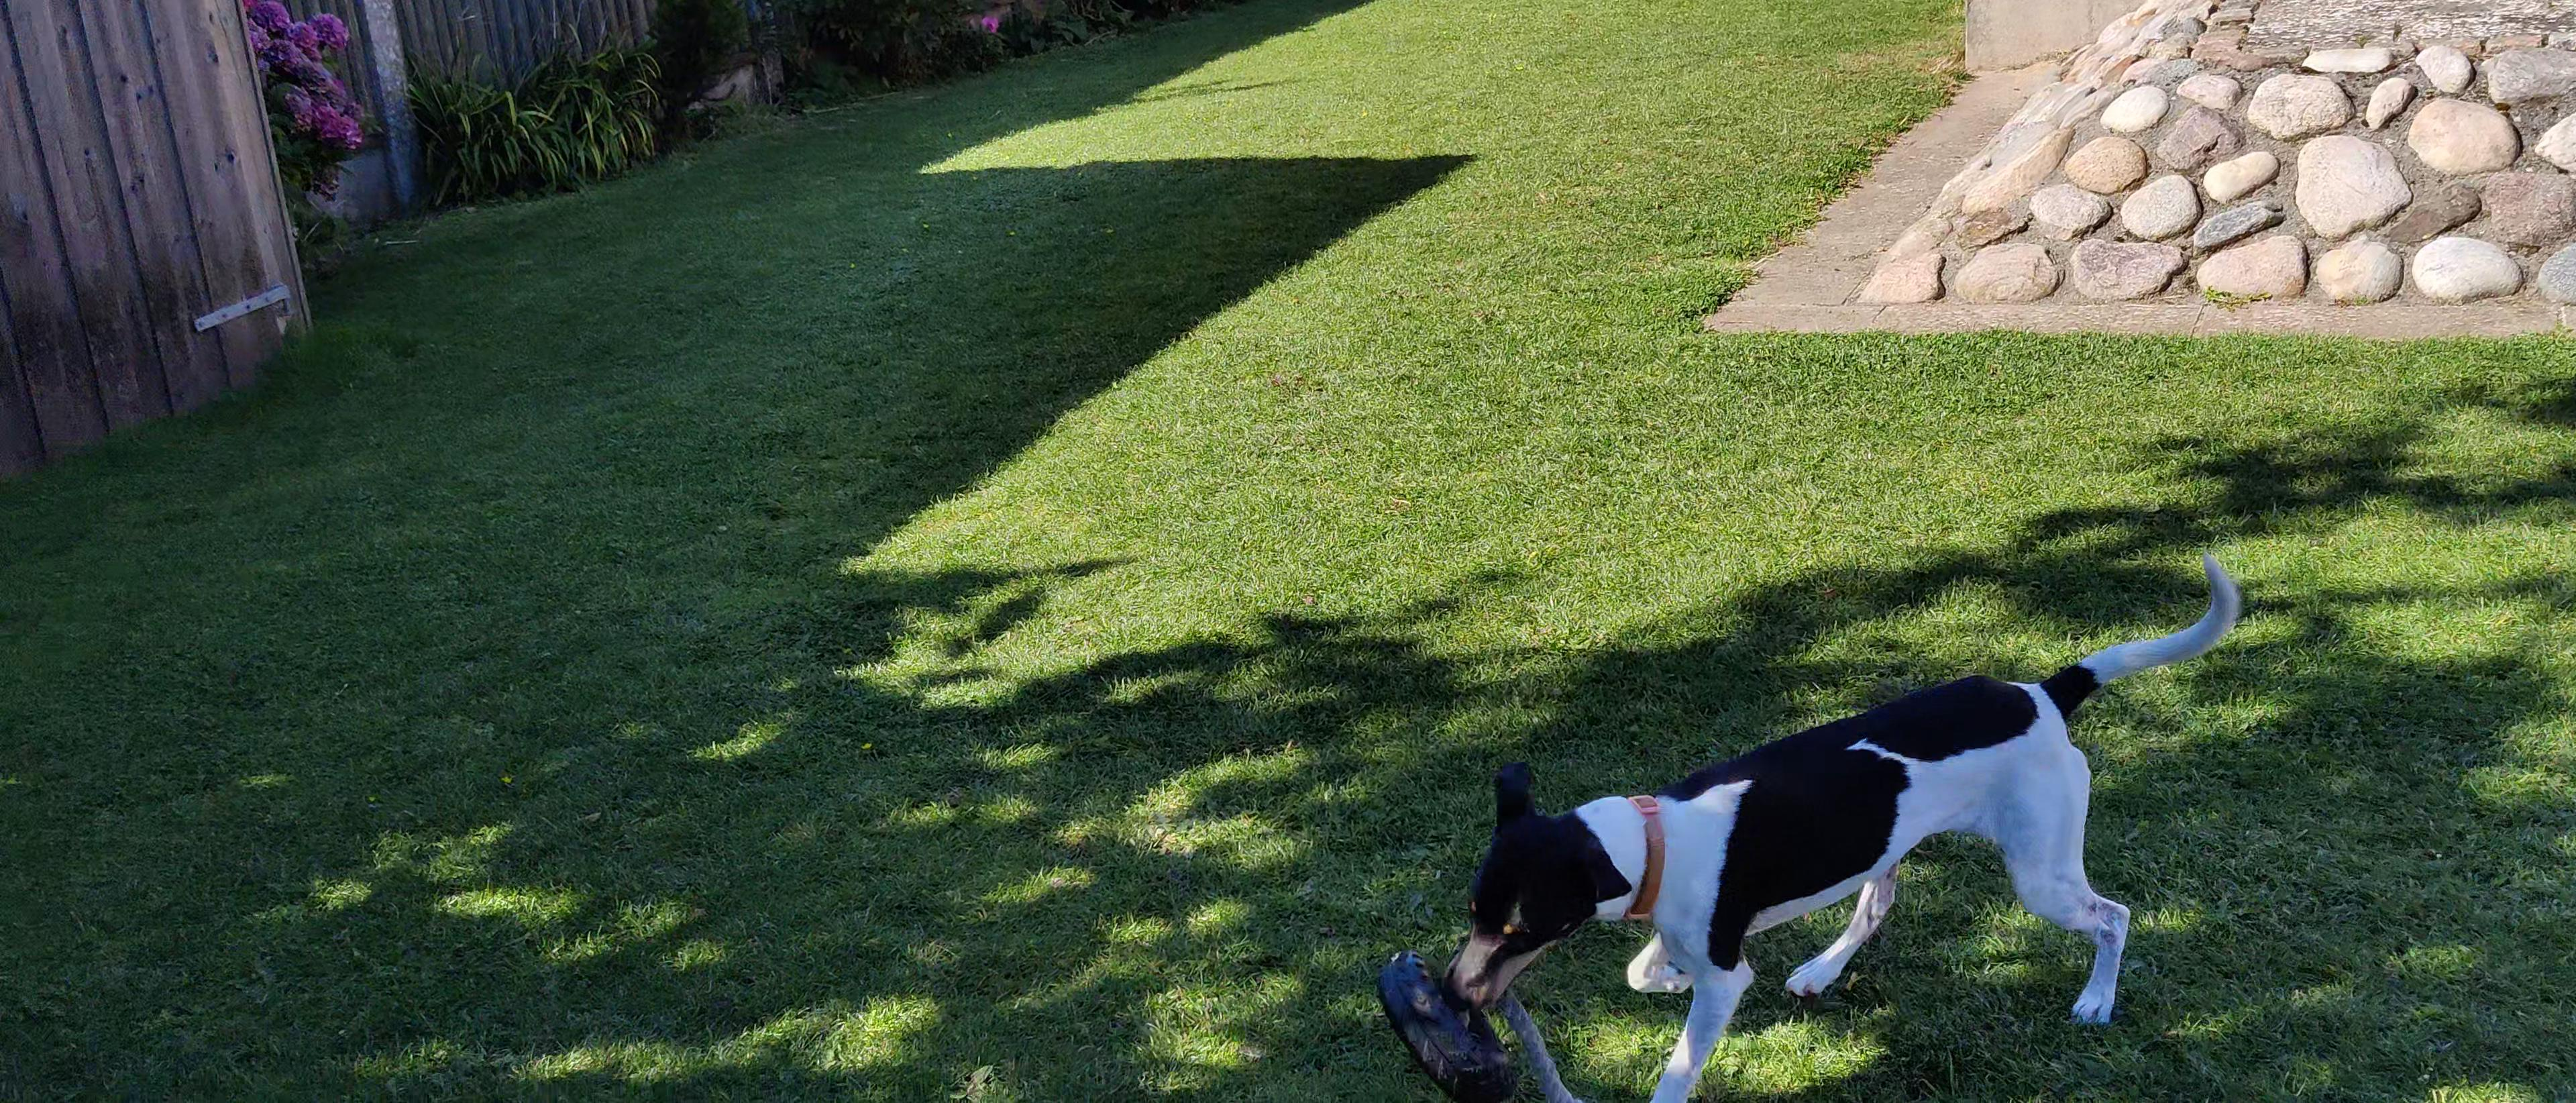Dog: (1436, 531, 2249, 1100)
